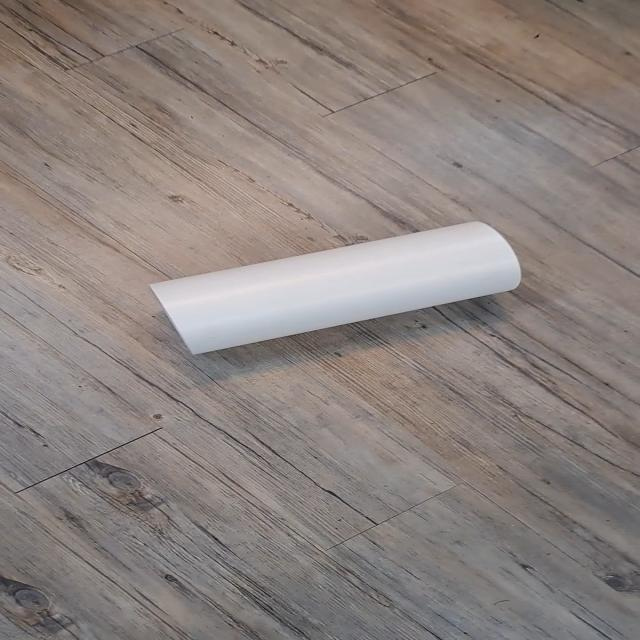CORAL: (125, 205, 563, 376)
